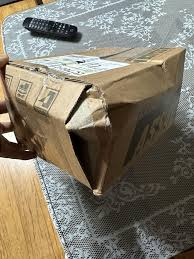damaged package: (63, 84, 113, 194)
